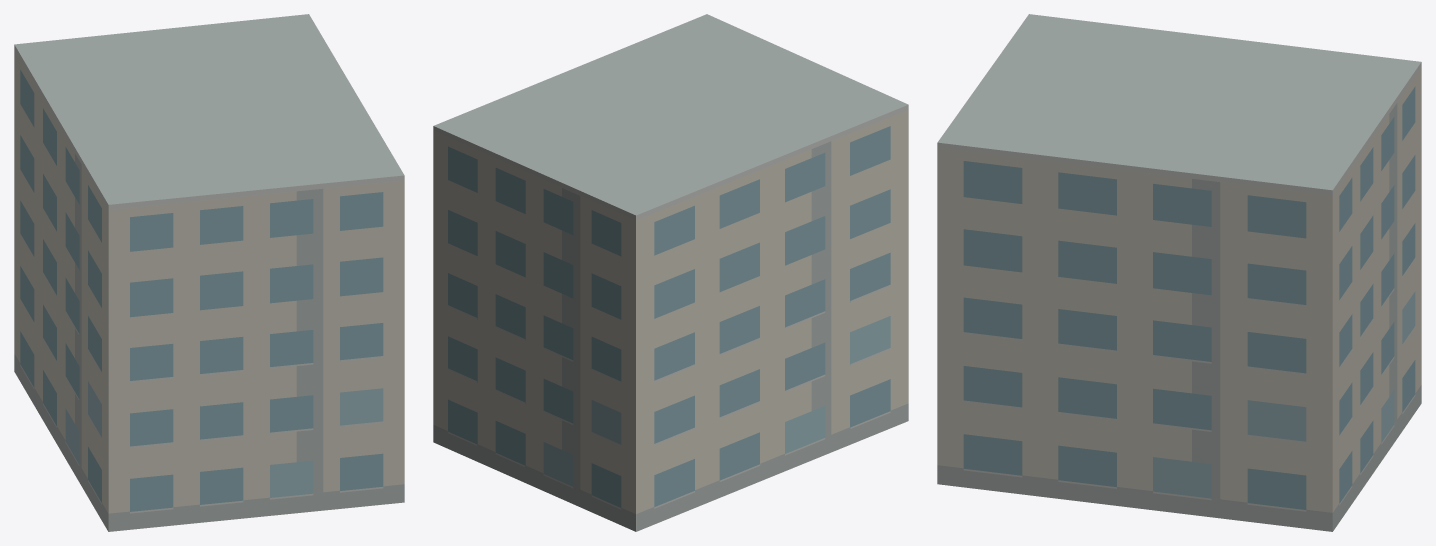
Rendered from survey-upis-32946985.glb.
The picture shows the model from 3 angles, left to right: view 1: azimuth 30°, elevation 25°; view 2: azimuth 150°, elevation 25°; view 3: azimuth 270°, elevation 25°; orthographic projection. The views are drawn at different scales.
Visible parts, largest first — view 1: survey-upis-32946985.tmp; view 2: survey-upis-32946985.tmp; view 3: survey-upis-32946985.tmp.
Part boxes in pixels (x1,y1,x2,y2): survey-upis-32946985.tmp: (14,14,404,531); survey-upis-32946985.tmp: (433,14,908,531); survey-upis-32946985.tmp: (937,14,1421,531).
Size of the model in its own units: 16.89 by 15.25 by 19.6.
